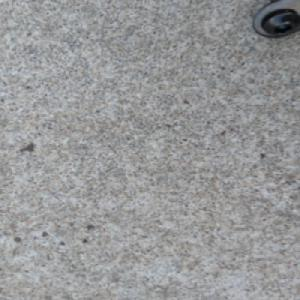BoltWasher: (251, 0, 300, 40)
